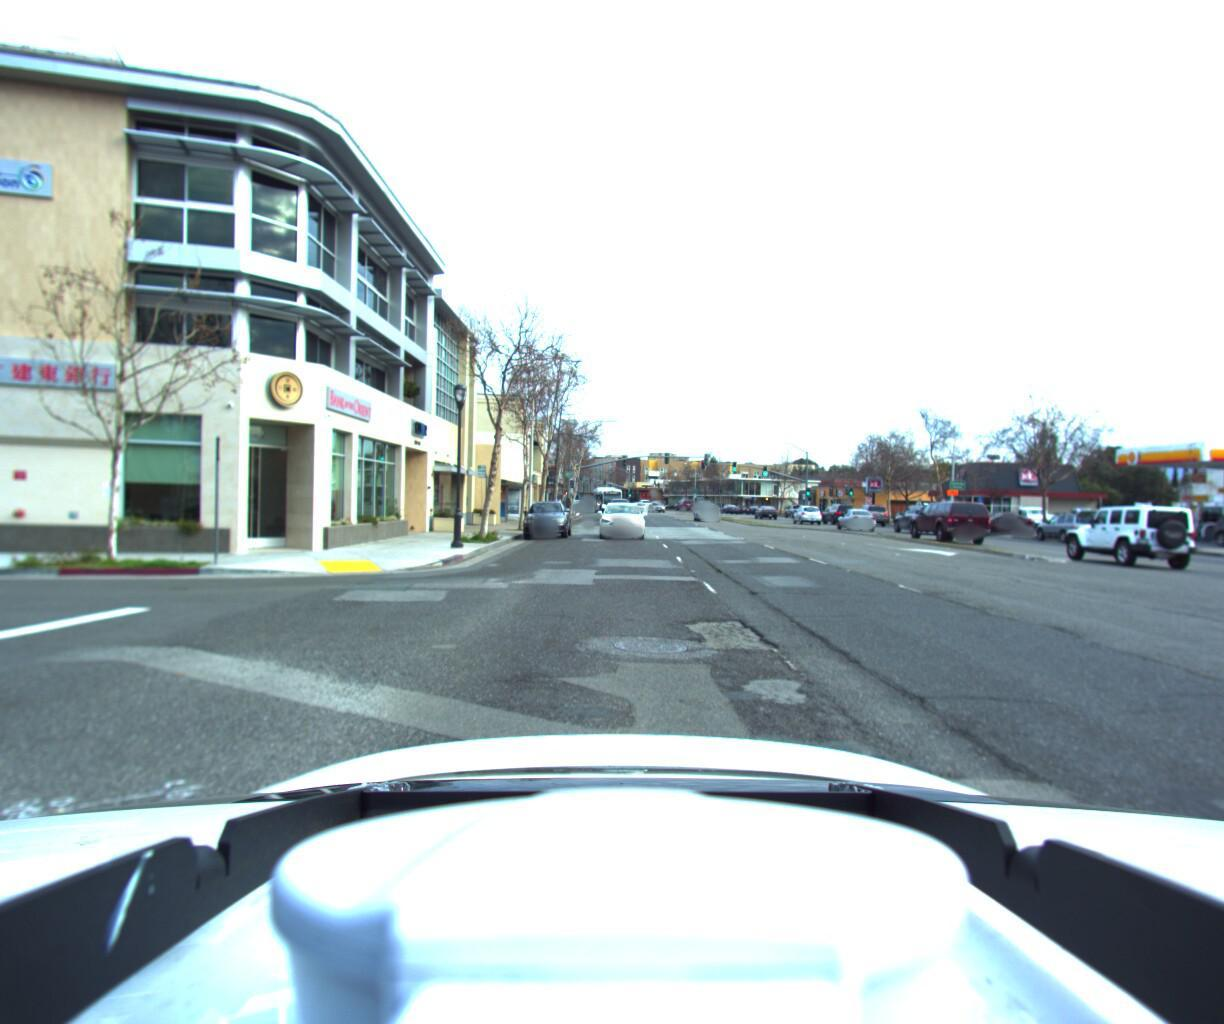car: (1049, 498, 1191, 566), (899, 498, 983, 542), (1028, 509, 1104, 544), (517, 497, 570, 542), (594, 501, 642, 540), (963, 510, 1033, 536), (1012, 504, 1057, 529), (830, 506, 874, 529), (1201, 508, 1224, 549), (850, 503, 886, 526), (790, 504, 821, 523), (694, 503, 721, 523), (752, 504, 776, 518)
